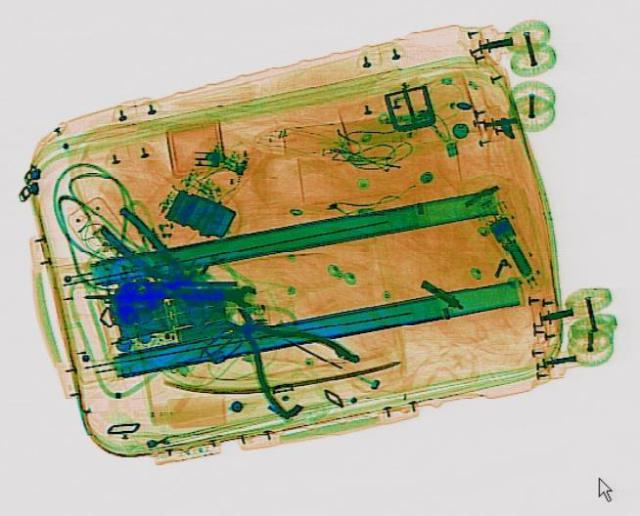Pliers: (187, 281, 369, 418), (87, 203, 219, 311)
